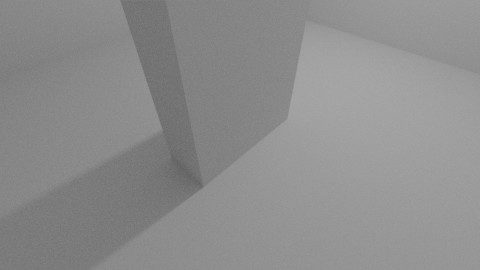cheminee: (120, 1, 310, 187)
